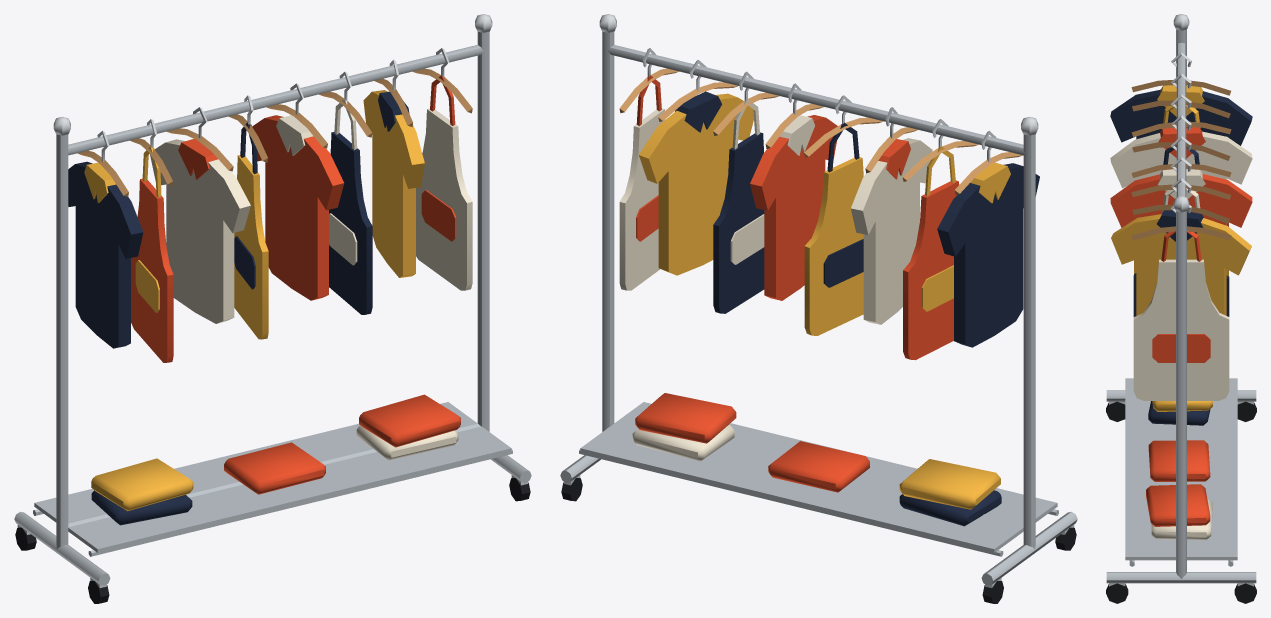
File: Lobby_UniformRack.fbx
3 views of the same model, side by side, from view 1: azimuth 30°, elevation 25°; view 2: azimuth 150°, elevation 25°; view 3: azimuth 270°, elevation 25° (orthographic). The views are drawn at different scales.
Parts seen in each view (by area): view 1: Frame, Garments4, Garments3, Garments1, Garments2, Folded3, Hangers, Folded2, Chrome, Folded1, Folded4, Casters; view 2: Frame, Garments2, Garments1, Garments3, Garments4, Folded3, Hangers, Folded2, Chrome, Folded4, Folded1, Casters; view 3: Frame, Garments4, Garments2, Garments3, Garments1, Folded3, Hangers, Chrome, Casters, Folded4, Folded1, Folded2.
Part boxes in pixels (left/top/right/bottom): Frame: left=14, top=31, right=531, bottom=585; Garments4: left=150, top=99, right=472, bottom=323; Garments3: left=131, top=75, right=456, bottom=362; Garments1: left=68, top=91, right=409, bottom=348; Garments2: left=84, top=90, right=424, bottom=339; Folded3: left=224, top=394, right=460, bottom=494; Hangers: left=77, top=68, right=472, bottom=196; Folded2: left=91, top=458, right=193, bottom=511; Chrome: left=17, top=14, right=528, bottom=587; Folded1: left=91, top=490, right=192, bottom=525; Folded4: left=356, top=425, right=458, bottom=460; Casters: left=15, top=478, right=530, bottom=603; Frame: left=560, top=31, right=1077, bottom=585; Garments2: left=639, top=93, right=1010, bottom=335; Garments1: left=675, top=91, right=1039, bottom=347; Garments3: left=636, top=75, right=959, bottom=360; Garments4: left=619, top=99, right=932, bottom=324; Folded3: left=635, top=393, right=869, bottom=492; Hangers: left=619, top=68, right=1022, bottom=194; Folded2: left=899, top=459, right=1000, bottom=509; Chrome: left=563, top=14, right=1074, bottom=587; Folded4: left=632, top=425, right=734, bottom=461; Folded1: left=899, top=490, right=1001, bottom=526; Casters: left=561, top=478, right=1076, bottom=603; Frame: left=1106, top=29, right=1256, bottom=583; Garments4: left=1110, top=131, right=1252, bottom=400; Garments2: left=1111, top=85, right=1251, bottom=315; Garments3: left=1110, top=127, right=1252, bottom=362; Garments1: left=1110, top=89, right=1252, bottom=316; Folded3: left=1146, top=440, right=1210, bottom=526; Hangers: left=1131, top=80, right=1231, bottom=240; Chrome: left=1109, top=14, right=1253, bottom=586; Casters: left=1106, top=401, right=1256, bottom=603; Folded4: left=1151, top=498, right=1212, bottom=539; Folded1: left=1148, top=401, right=1210, bottom=425; Folded2: left=1152, top=401, right=1212, bottom=411.
Bounding box in the file's own units: 600 × 600 × 202.
